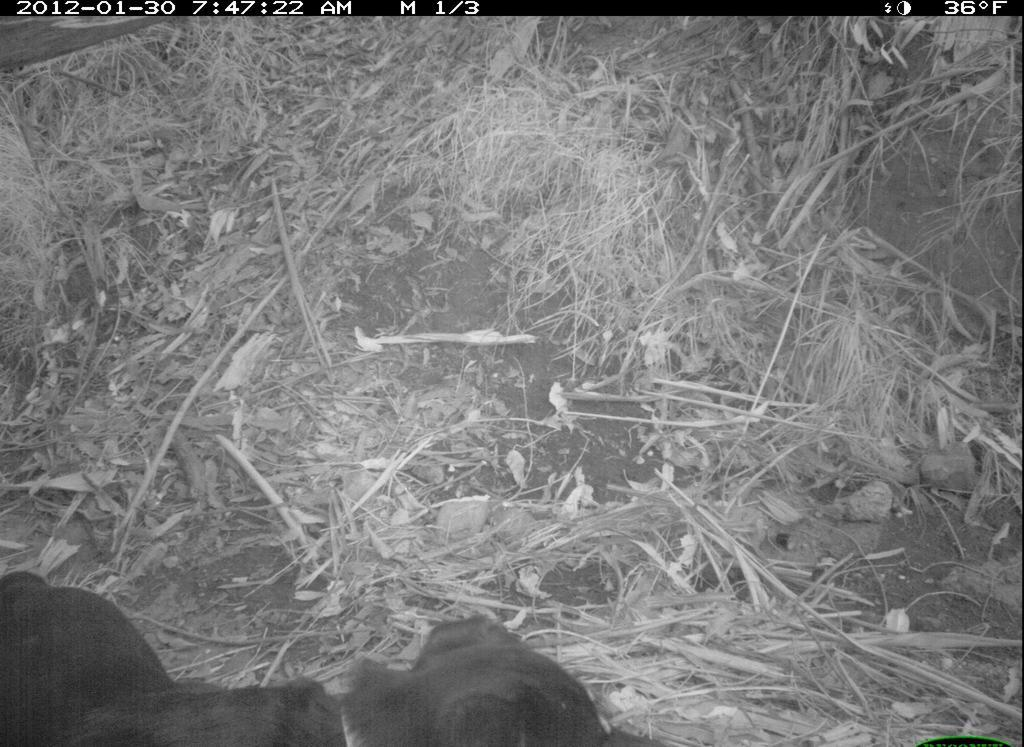dog: (3, 562, 655, 739)
